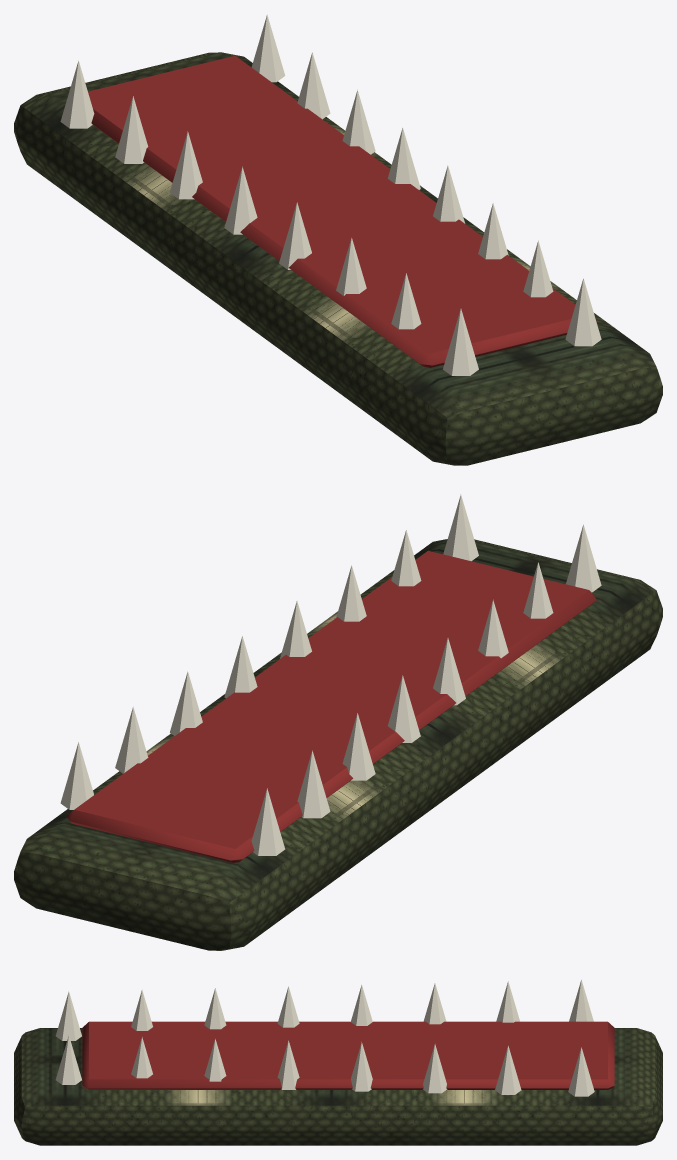
The model's file is pit-jaw.glb.
3 renders of one model, top to bottom at view 1: azimuth 30°, elevation 25°; view 2: azimuth 150°, elevation 25°; view 3: azimuth 270°, elevation 25°, orthographic. The views are drawn at different scales.
Parts seen in each view (by area): view 1: pit-jaw; view 2: pit-jaw; view 3: pit-jaw.
Boxes of the visible parts, x1,y1,x2,y2 form: pit-jaw: [14, 14, 662, 465]; pit-jaw: [14, 494, 662, 950]; pit-jaw: [14, 979, 662, 1145].
Size of the model in its own units: 0.6 by 0.335 by 1.95.
Materials: 3 (1 with a texture image).
